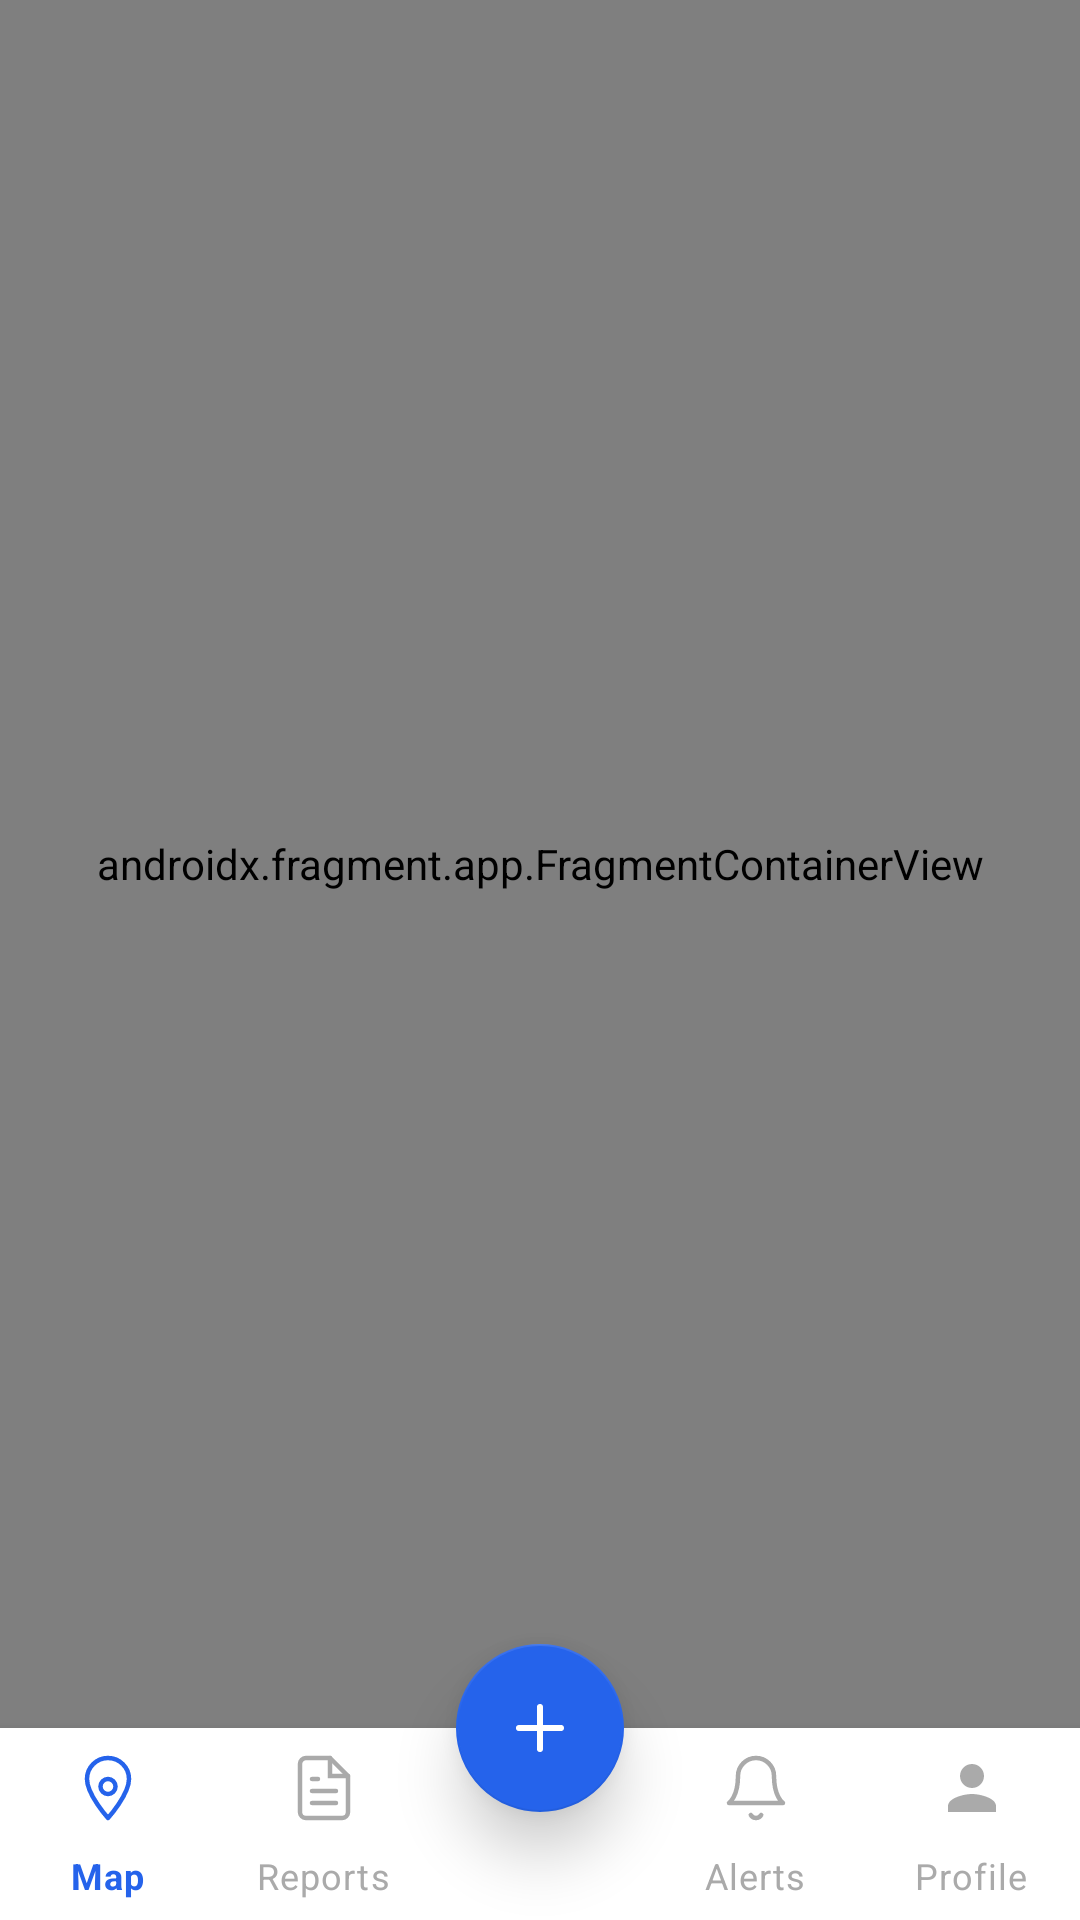

Icons on this 1080 x 1920 Android screen, each with the point to tap as [x,y]:
Submit new report: [540,1728]
